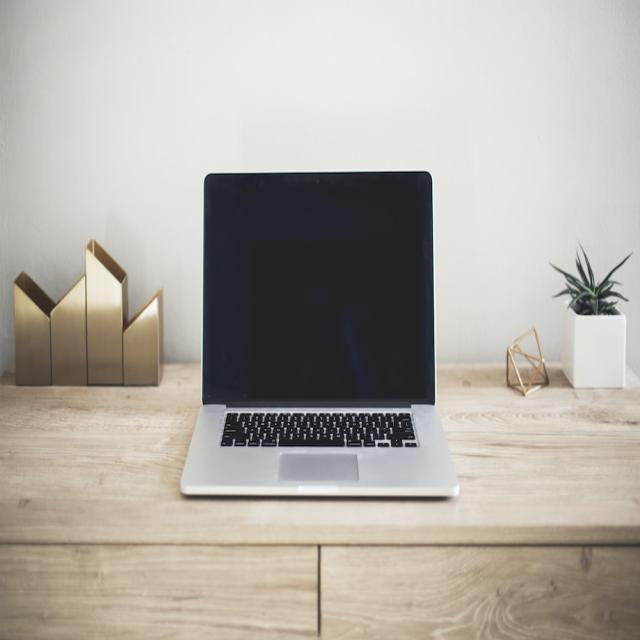keyboard: (184, 407, 457, 489)
